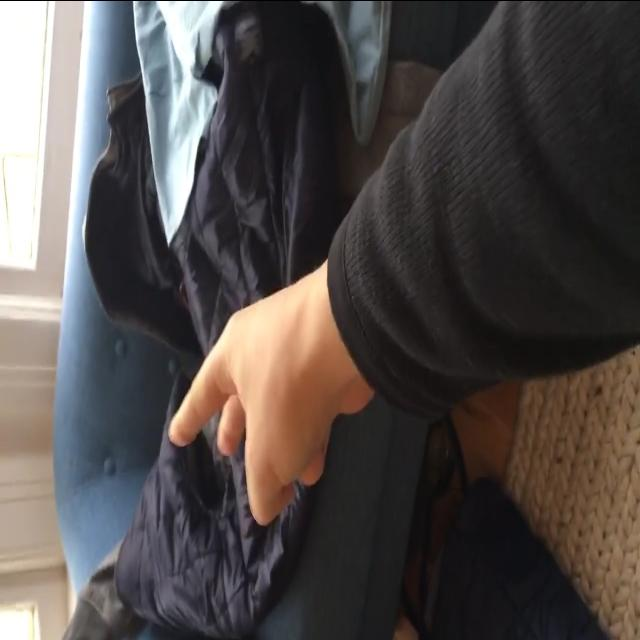Scissors: (166, 284, 342, 524)
